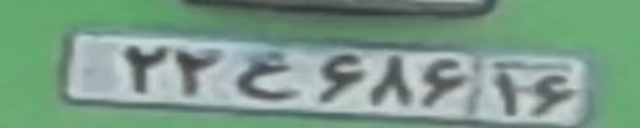1: (488, 70, 518, 116)
2: (174, 45, 224, 95), (122, 43, 166, 93)
6: (314, 53, 365, 103), (417, 56, 466, 106), (527, 73, 578, 117)
8: (371, 54, 413, 105)
ain: (233, 50, 300, 98)
